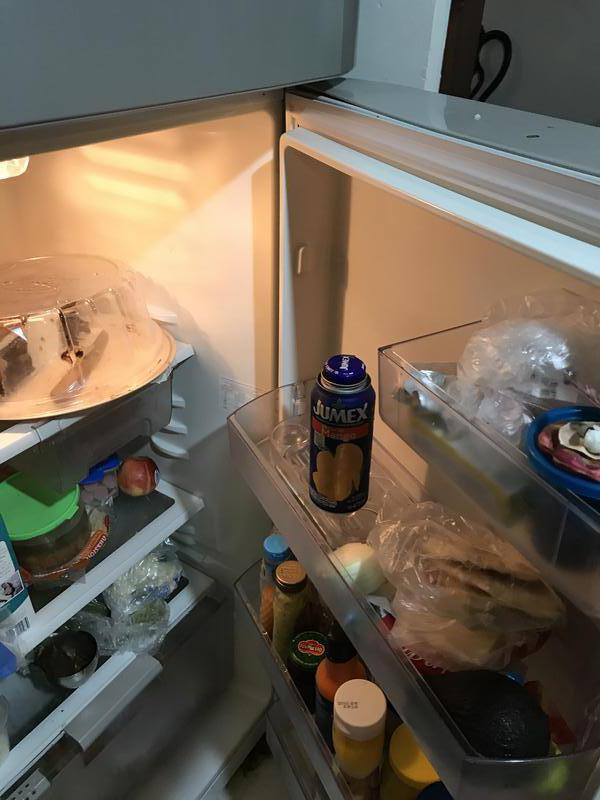jugo_jumex: (306, 354, 376, 513)
